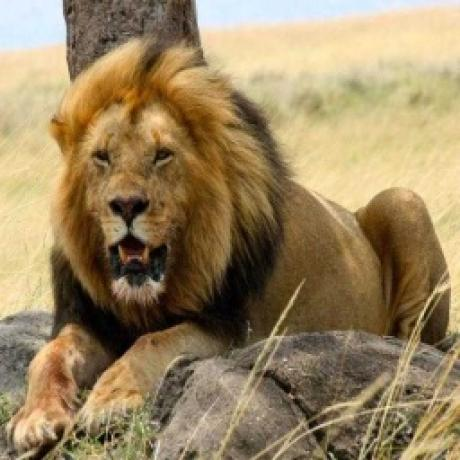Lion: (28, 35, 455, 410)
